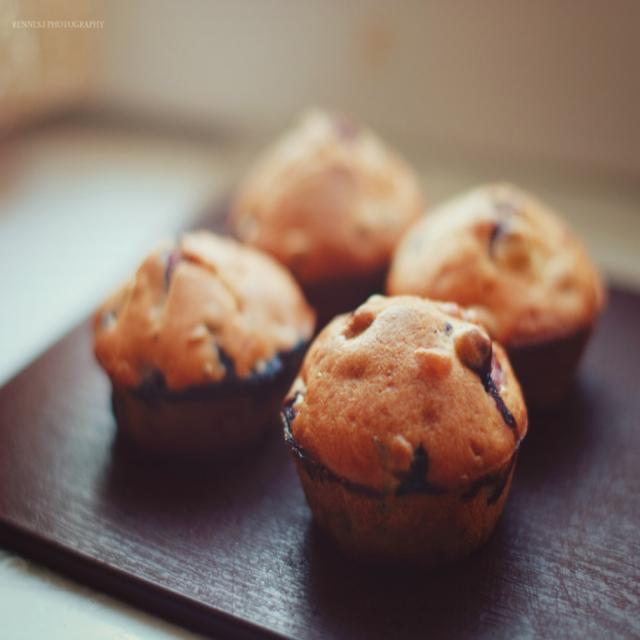Muffin: (278, 296, 530, 558), (94, 225, 314, 456), (390, 175, 602, 414), (229, 108, 427, 338)
